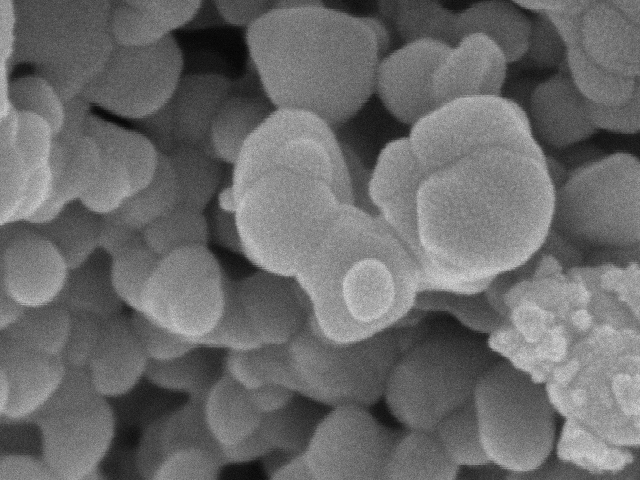nano: (1, 228, 73, 314), (338, 251, 399, 327)
